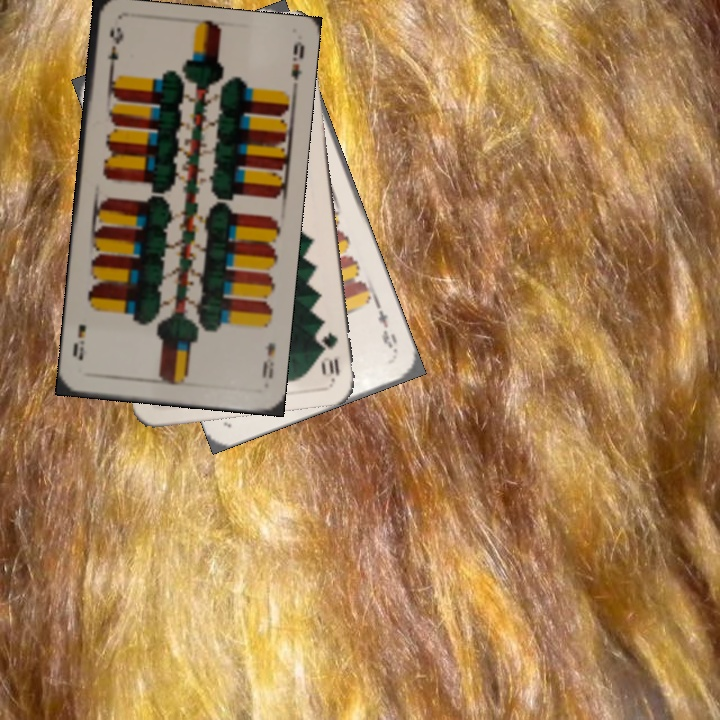E9: (372, 300, 401, 356), (103, 22, 125, 82), (258, 338, 278, 381)
G10: (317, 328, 342, 381)
